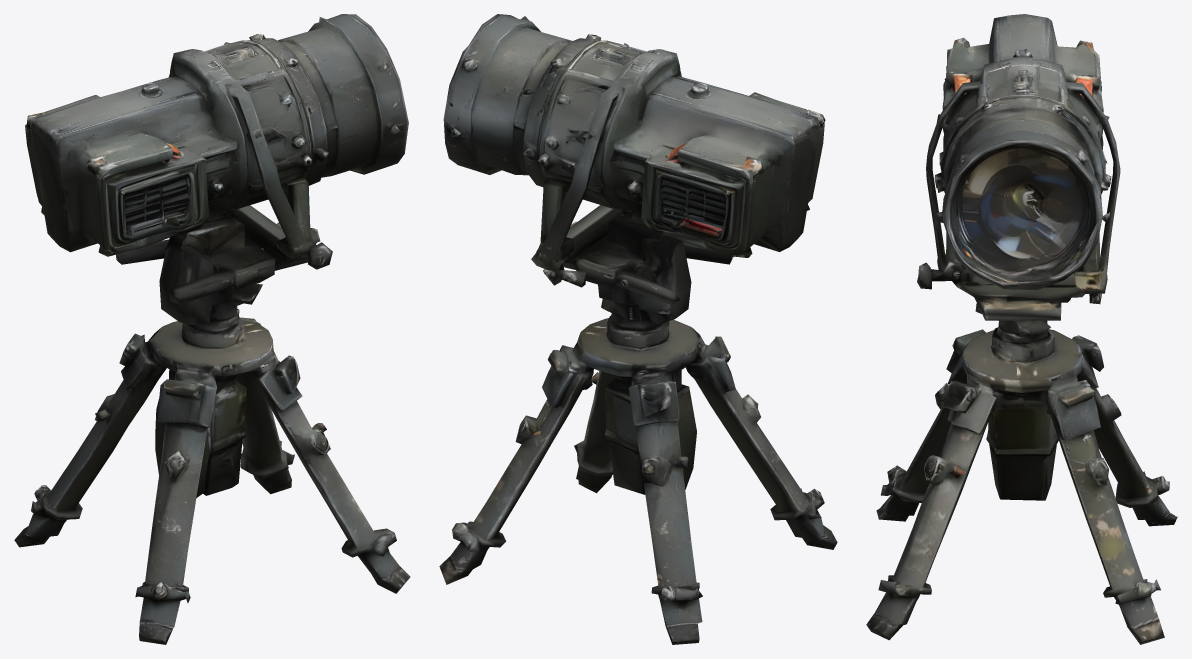
File: xd_searchlight.glb
3 renders of one model, left to right at view 1: azimuth 30°, elevation 25°; view 2: azimuth 150°, elevation 25°; view 3: azimuth 270°, elevation 25°, orthographic.
Parts seen in each view (by area): view 1: tripo_node_7f20ffe9-bac7-481e-ba53-aed108cabbb1; view 2: tripo_node_7f20ffe9-bac7-481e-ba53-aed108cabbb1; view 3: tripo_node_7f20ffe9-bac7-481e-ba53-aed108cabbb1.
Part boxes in pixels (x1,y1,x2,y2): tripo_node_7f20ffe9-bac7-481e-ba53-aed108cabbb1: [14, 14, 410, 644]; tripo_node_7f20ffe9-bac7-481e-ba53-aed108cabbb1: [439, 14, 837, 644]; tripo_node_7f20ffe9-bac7-481e-ba53-aed108cabbb1: [866, 14, 1177, 644].
Size of the model in its own units: 0.6814 by 1 by 0.5498.
1 material, 1 textured.
